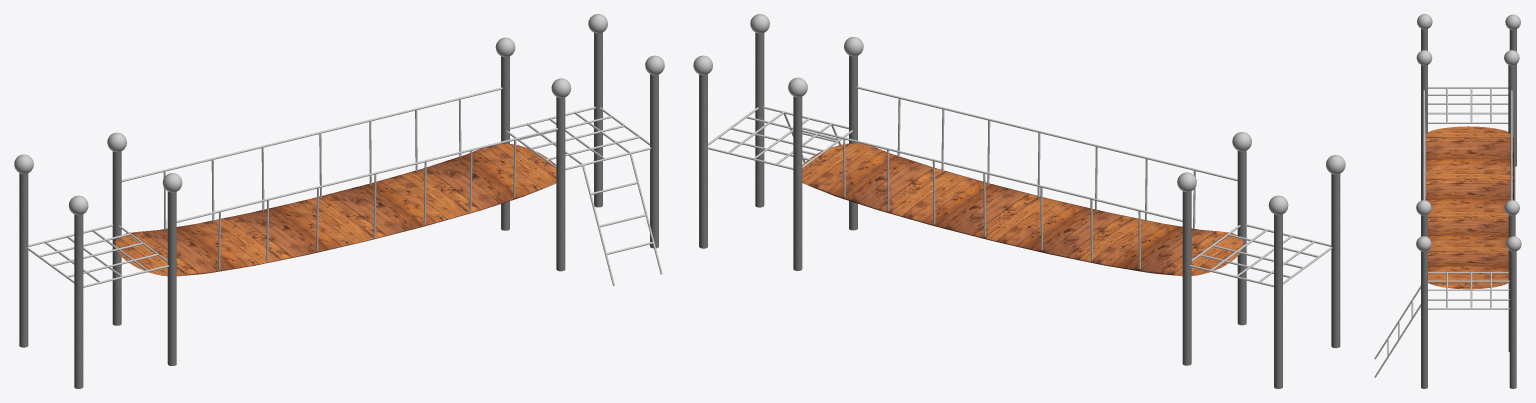
The model's file is Juego2.obj.
3 views of the same model, side by side, from view 1: azimuth 30°, elevation 25°; view 2: azimuth 150°, elevation 25°; view 3: azimuth 270°, elevation 25° (orthographic). The views are drawn at different scales.
Visible parts, largest first — view 1: pTorus2, group4 pasted__pasted__pasted__pCylinder1 pasted__pasted__group1, pasted__pasted__pCylinder1 pasted__group2 group4, pasted__pasted__pCylinder1 pasted__group1 group3, group4 pasted__pasted__pCylinder1 pasted__group1, group4 pasted__pCylinder1, pasted__pCylinder1 group1, pCylinder1, pasted__pCylinder2 group6, pCylinder2, pasted__pasted__pasted__pCylinder1 pasted__pasted__group1 pasted, pasted__pasted__pasted__pasted__pCylinder2 pasted__pasted__paste (+4 smaller); view 2: pTorus2, pasted__pasted__pasted__pCylinder1 pasted__pasted__group1 pasted, group4 pasted__pasted__pasted__pCylinder1 pasted__pasted__group1, group4 pasted__pCylinder1, pasted__pCylinder1 group1, pasted__pasted__pCylinder1 pasted__group2 group4, pCylinder1, group4 pasted__pasted__pCylinder1 pasted__group1, pCylinder2, pasted__pCylinder2 group6, pasted__pasted__pCylinder1 pasted__group1 group3, group26 pasted__pasted__pasted__pasted__pasted__pasted__pasted__ (+3 smaller); view 3: pTorus2, pCylinder1, pasted__pCylinder1 group1, group4 pasted__pCylinder1, group4 pasted__pasted__pCylinder1 pasted__group1, pasted__pasted__pasted__pasted__pCylinder2 pasted__pasted__paste, pasted__pasted__pCylinder1 pasted__group2 group4, pasted__pasted__pasted__pCylinder1 pasted__pasted__group1 pasted, pasted__pasted__pasted__pCylinder2 pasted__pasted__group7 pasted, pasted__pasted__pasted__pasted__pasted__pCylinder2 pasted__paste, group18 pasted__pasted__pasted__pasted__pCylinder2 pasted__paste, group12 pasted__pasted__pasted__pCylinder2 pasted__pasted__group (+16 smaller).
Boxes of the visible parts, <box> form: pTorus2: <box>115,143,556,276</box>; group4 pasted__pasted__pasted__pCylinder1 pasted__pasted__group1: <box>74,214,83,388</box>; pasted__pasted__pCylinder1 pasted__group2 group4: <box>19,173,28,347</box>; pasted__pasted__pCylinder1 pasted__group1 group3: <box>556,97,565,271</box>; group4 pasted__pasted__pCylinder1 pasted__group1: <box>167,192,176,365</box>; group4 pasted__pCylinder1: <box>112,151,121,325</box>; pasted__pCylinder1 group1: <box>650,74,658,248</box>; pCylinder1: <box>594,32,602,207</box>; pasted__pCylinder2 group6: <box>176,128,557,222</box>; pCylinder2: <box>121,87,502,181</box>; pasted__pasted__pasted__pCylinder1 pasted__pasted__group1 pasted: <box>501,56,509,230</box>; pasted__pasted__pasted__pasted__pCylinder2 pasted__pasted__paste: <box>373,112,653,254</box>; pTorus2: <box>802,143,1243,276</box>; pasted__pasted__pasted__pCylinder1 pasted__pasted__group1 pasted: <box>793,96,802,270</box>; group4 pasted__pasted__pasted__pCylinder1 pasted__pasted__group1: <box>1331,174,1340,348</box>; group4 pasted__pCylinder1: <box>1182,191,1191,365</box>; pasted__pCylinder1 group1: <box>755,32,764,207</box>; pasted__pasted__pCylinder1 pasted__group2 group4: <box>1274,214,1282,388</box>; pCylinder1: <box>699,74,707,248</box>; group4 pasted__pasted__pCylinder1 pasted__group1: <box>1237,151,1246,325</box>; pCylinder2: <box>801,127,1182,221</box>; pasted__pCylinder2 group6: <box>857,86,1237,181</box>; pasted__pasted__pCylinder1 pasted__group1 group3: <box>849,55,857,230</box>; group26 pasted__pasted__pasted__pasted__pasted__pasted__pasted__: <box>932,161,1140,268</box>; pTorus2: <box>1423,126,1513,289</box>; pCylinder1: <box>1509,251,1516,388</box>; pasted__pCylinder1 group1: <box>1421,251,1427,388</box>; group4 pasted__pCylinder1: <box>1508,65,1515,200</box>; group4 pasted__pasted__pCylinder1 pasted__group1: <box>1421,65,1427,200</box>; pasted__pasted__pasted__pasted__pCylinder2 pasted__pasted__paste: <box>1387,174,1509,355</box>; pasted__pasted__pCylinder1 pasted__group2 group4: <box>1509,29,1516,166</box>; pasted__pasted__pasted__pCylinder1 pasted__pasted__group1 pasted: <box>1508,215,1515,351</box>; pasted__pasted__pasted__pCylinder2 pasted__pasted__group7 pasted: <box>1398,289,1509,338</box>; pasted__pasted__pasted__pasted__pasted__pCylinder2 pasted__paste: <box>1374,94,1508,359</box>; group18 pasted__pasted__pasted__pasted__pCylinder2 pasted__paste: <box>1428,103,1508,123</box>; group12 pasted__pasted__pasted__pCylinder2 pasted__pasted__group: <box>1446,87,1491,122</box>.
Bounding box in the file's own units: 12.27 × 3.76 × 3.34.
